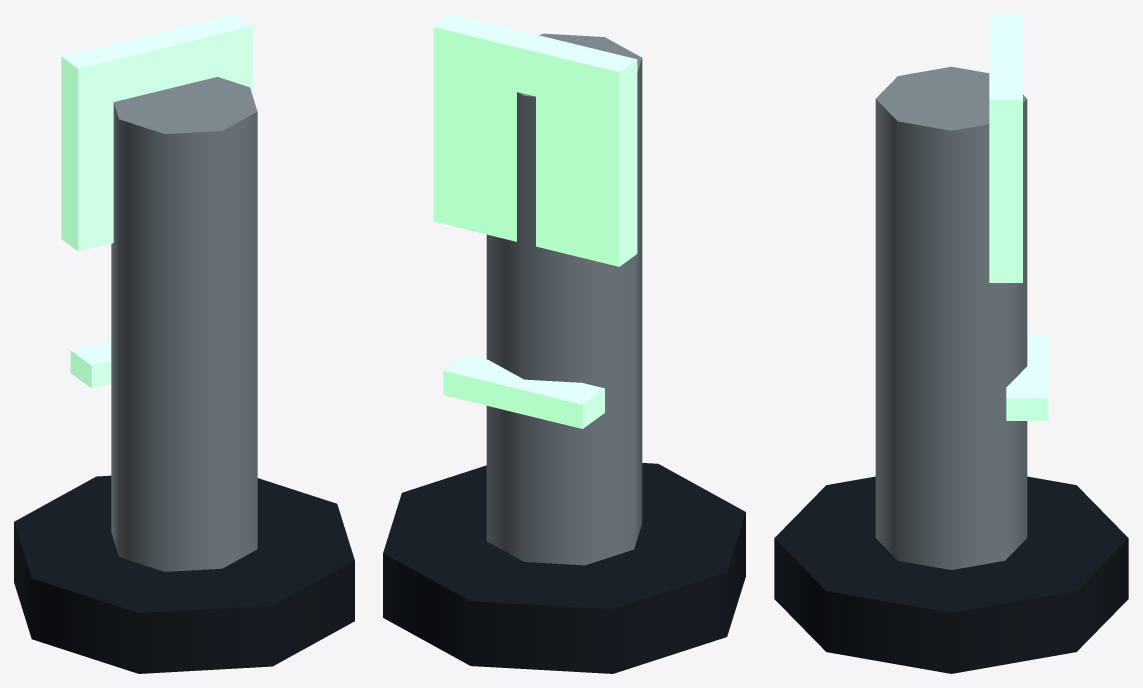
Rendered from np_z06_avantage_constitution.glb.
3 renders of one model, left to right at view 1: azimuth 30°, elevation 25°; view 2: azimuth 150°, elevation 25°; view 3: azimuth 270°, elevation 25°, orthographic. The views are drawn at different scales.
Visible parts, largest first — view 1: Chassis, Socle, Pictogramme, BandeEtat; view 2: Socle, Chassis, Pictogramme, BandeEtat; view 3: Chassis, Socle, Pictogramme, BandeEtat.
Boxes of the visible parts, x1=… form: Chassis: x1=111, y1=77, x2=257, y2=571; Socle: x1=14, y1=475, x2=354, y2=673; Pictogramme: x1=61, y1=14, x2=252, y2=251; BandeEtat: x1=70, y1=340, x2=111, y2=388; Socle: x1=383, y1=463, x2=745, y2=673; Chassis: x1=486, y1=33, x2=642, y2=565; Pictogramme: x1=433, y1=14, x2=637, y2=266; BandeEtat: x1=443, y1=354, x2=604, y2=428; Chassis: x1=875, y1=66, x2=1027, y2=569; Socle: x1=774, y1=476, x2=1128, y2=673; Pictogramme: x1=989, y1=14, x2=1022, y2=282; BandeEtat: x1=1006, y1=334, x2=1048, y2=420.
Bounding box in the file's own units: 0.84 × 1.42 × 0.84.
